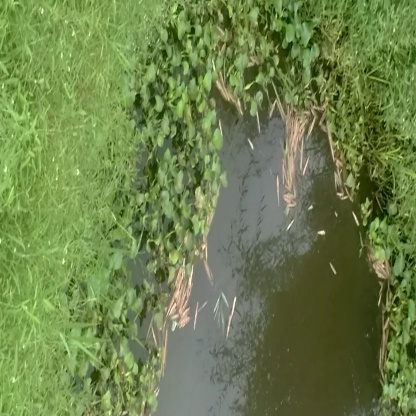leaf: (271, 117, 314, 212)
